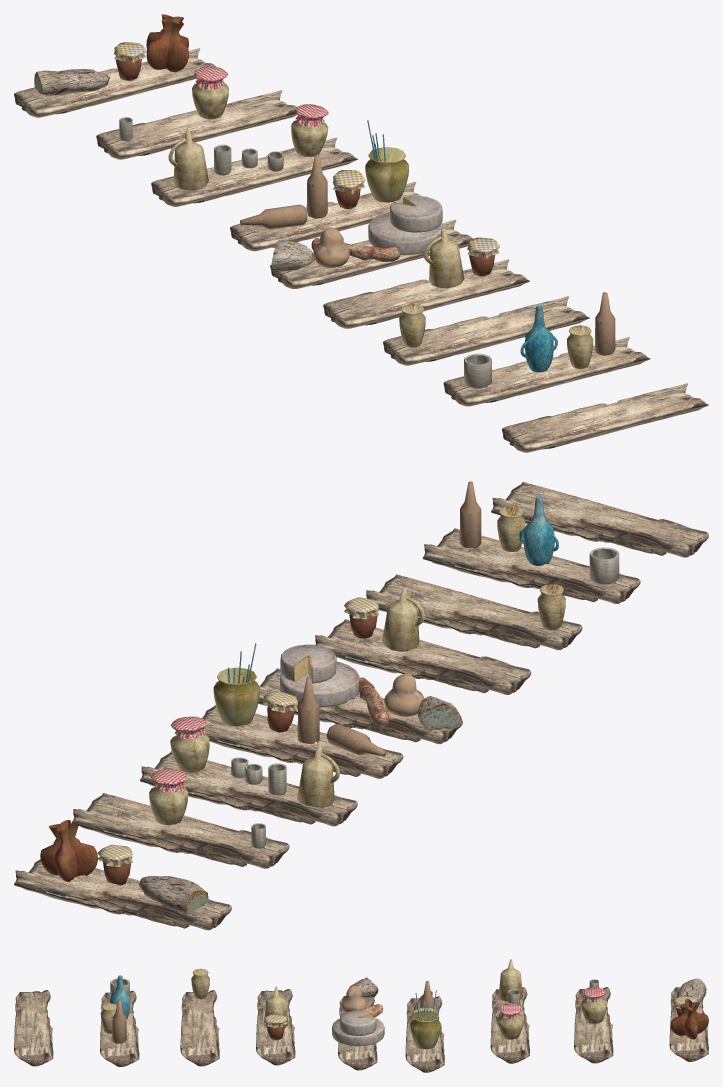
File: kitchen shelf.FBX
3 views of the same model, one above another, from view 1: azimuth 30°, elevation 25°; view 2: azimuth 150°, elevation 25°; view 3: azimuth 270°, elevation 25° (orthographic). The views are drawn at different scales.
Parts seen in each view (by area): view 1: kitchen shelf00, kitchen shelf04, kitchen shelf03, kitchen shelf02, kitchen shelf01, kitchen shelf05, kitchen shelf07, kitchen shelf06, kitchen shelf08; view 2: kitchen shelf00, kitchen shelf03, kitchen shelf01, kitchen shelf02, kitchen shelf04, kitchen shelf05, kitchen shelf07, kitchen shelf06, kitchen shelf08; view 3: kitchen shelf04, kitchen shelf02, kitchen shelf06, kitchen shelf00, kitchen shelf01, kitchen shelf03, kitchen shelf07, kitchen shelf05, kitchen shelf08.
Boxes of the visible parts, x1,y1,x2,y2 form: kitchen shelf00: (443,292,650,406); kitchen shelf04: (270,196,472,288); kitchen shelf03: (230,120,421,251); kitchen shelf02: (151,104,357,206); kitchen shelf01: (14,14,216,117); kitchen shelf05: (323,228,529,328); kitchen shelf07: (96,66,297,159); kitchen shelf06: (383,296,589,365); kitchen shelf08: (502,383,708,452); kitchen shelf00: (422,481,640,603); kitchen shelf03: (202,643,403,778); kitchen shelf01: (14,820,231,930); kitchen shelf02: (140,716,357,826); kitchen shelf04: (258,644,462,744); kitchen shelf05: (315,587,531,694); kitchen shelf07: (71,769,289,868); kitchen shelf06: (366,574,582,650); kitchen shelf08: (491,482,708,557); kitchen shelf04: (332,977,384,1070); kitchen shelf02: (490,959,529,1063); kitchen shelf06: (180,968,219,1066); kitchen shelf00: (100,975,139,1066); kitchen shelf01: (669,978,708,1061); kitchen shelf03: (405,981,444,1072); kitchen shelf07: (574,979,613,1063); kitchen shelf05: (256,986,295,1065); kitchen shelf08: (14,990,53,1066).
Size of the model in its own units: 178 by 78.12 by 715.
